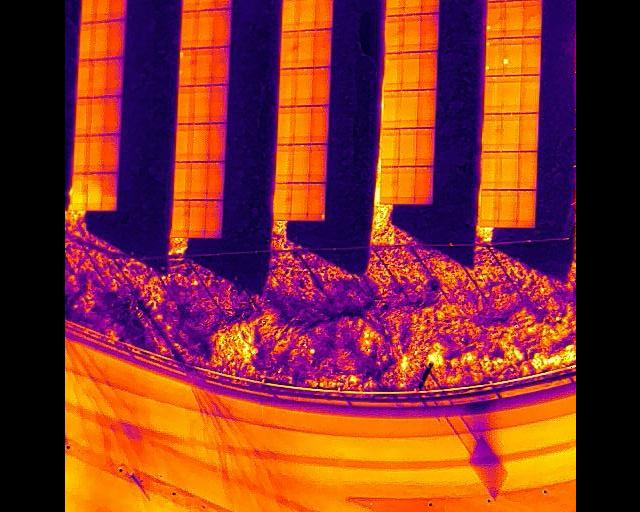Cell: (502, 38, 522, 76), (485, 1, 504, 39), (306, 183, 325, 221), (199, 0, 214, 10)
Cell-Multi: (177, 49, 195, 87), (484, 38, 501, 77)
No-Anomaly: (514, 190, 535, 228), (517, 114, 538, 152), (414, 128, 434, 166), (517, 152, 537, 190), (519, 75, 539, 113), (412, 166, 431, 205), (480, 152, 499, 191), (397, 128, 416, 167), (307, 145, 326, 184), (174, 124, 193, 163), (521, 37, 540, 76), (401, 14, 420, 52), (481, 114, 500, 152), (499, 76, 518, 114), (417, 89, 435, 129), (522, 1, 541, 38), (499, 151, 517, 190), (400, 52, 418, 91), (312, 67, 330, 106), (399, 90, 417, 128), (309, 106, 327, 144), (313, 30, 331, 68), (504, 1, 522, 38), (497, 190, 515, 227), (379, 167, 397, 204), (418, 52, 435, 91), (205, 162, 222, 201), (483, 76, 500, 114), (293, 106, 310, 144), (295, 69, 312, 107), (280, 31, 297, 69), (290, 183, 307, 221), (273, 183, 290, 221), (275, 145, 292, 183), (178, 86, 195, 124), (203, 200, 220, 238), (106, 22, 123, 60), (420, 14, 437, 51), (500, 114, 517, 151), (480, 190, 497, 227), (380, 129, 397, 166), (170, 200, 187, 237), (210, 85, 226, 124), (383, 53, 399, 92), (292, 144, 308, 183), (72, 136, 88, 174), (207, 124, 223, 162), (211, 48, 227, 86), (397, 167, 413, 205), (385, 15, 401, 53), (212, 10, 228, 48), (297, 31, 313, 69), (279, 69, 295, 107), (277, 107, 293, 145), (196, 11, 212, 49), (192, 124, 208, 162), (181, 11, 197, 49), (190, 162, 206, 200), (102, 136, 118, 174), (187, 200, 203, 237), (101, 174, 117, 211), (383, 91, 398, 130), (105, 97, 120, 136), (86, 172, 101, 211), (194, 86, 209, 124), (196, 48, 211, 86), (175, 162, 190, 200), (75, 98, 90, 135), (105, 60, 120, 97), (314, 0, 332, 30), (76, 60, 90, 98), (78, 24, 92, 62), (90, 98, 104, 136), (91, 61, 105, 99), (93, 23, 107, 61), (299, 0, 315, 32), (71, 174, 85, 210), (282, 0, 298, 31), (89, 137, 101, 173), (94, 0, 109, 23), (80, 0, 94, 24), (110, 0, 125, 21), (403, 0, 421, 15), (420, 0, 439, 14), (386, 0, 403, 15), (183, 0, 199, 12), (213, 0, 230, 9)
